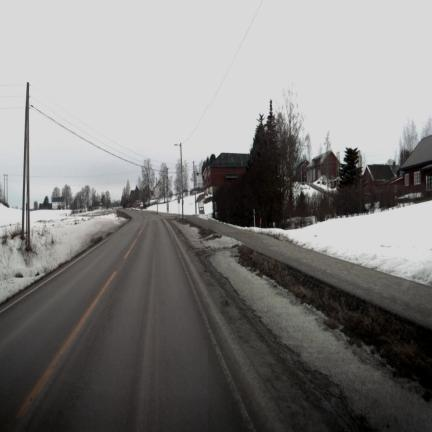Road: (0, 213, 247, 430)
